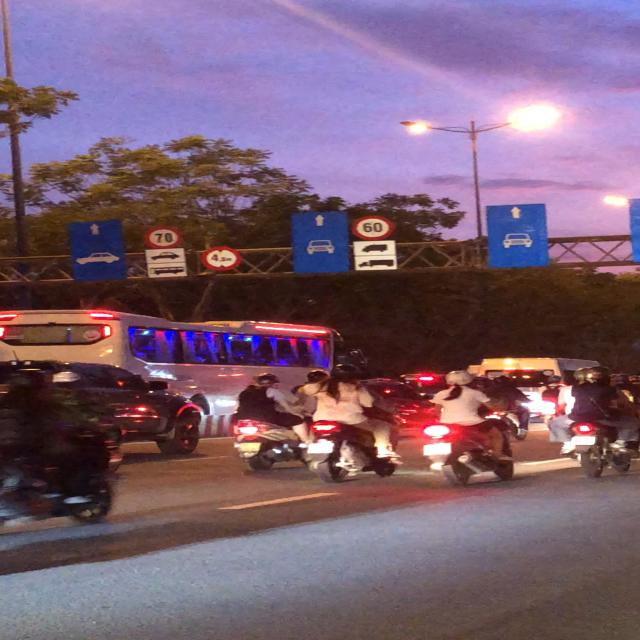Bien bao han che chieu cao: (200, 245, 247, 272)
Bien bao toc do toi da cho phep: (346, 212, 398, 240), (139, 226, 187, 252)
